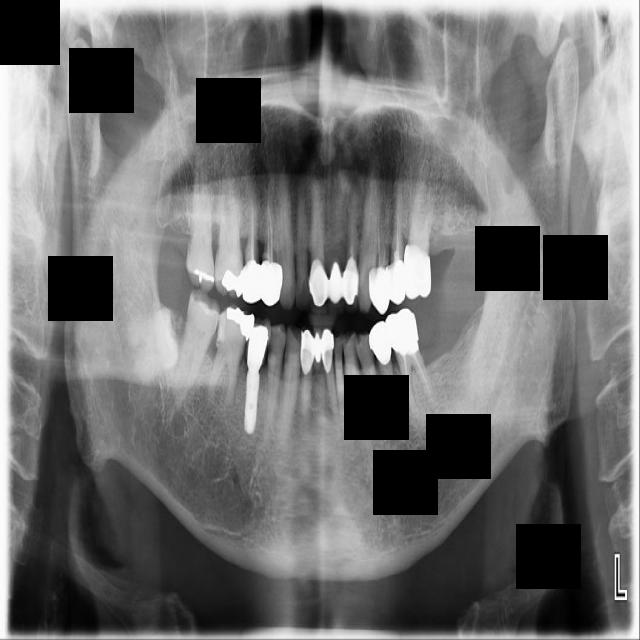52: (307, 255, 361, 308), (211, 301, 258, 355), (381, 305, 423, 356), (183, 237, 216, 295), (242, 315, 273, 373), (401, 243, 432, 301), (299, 326, 334, 376), (214, 246, 244, 299), (365, 319, 395, 365), (258, 263, 283, 307), (368, 268, 390, 315), (384, 262, 407, 305), (242, 261, 262, 304)
73: (391, 341, 442, 423), (376, 356, 406, 432), (370, 187, 394, 272), (390, 165, 407, 265), (261, 188, 283, 265), (244, 185, 260, 266), (591, 575, 599, 589)
Caries: (179, 141, 216, 295)
Implant: (169, 286, 224, 413)
Keystone Dental Implant: (122, 305, 185, 385)
